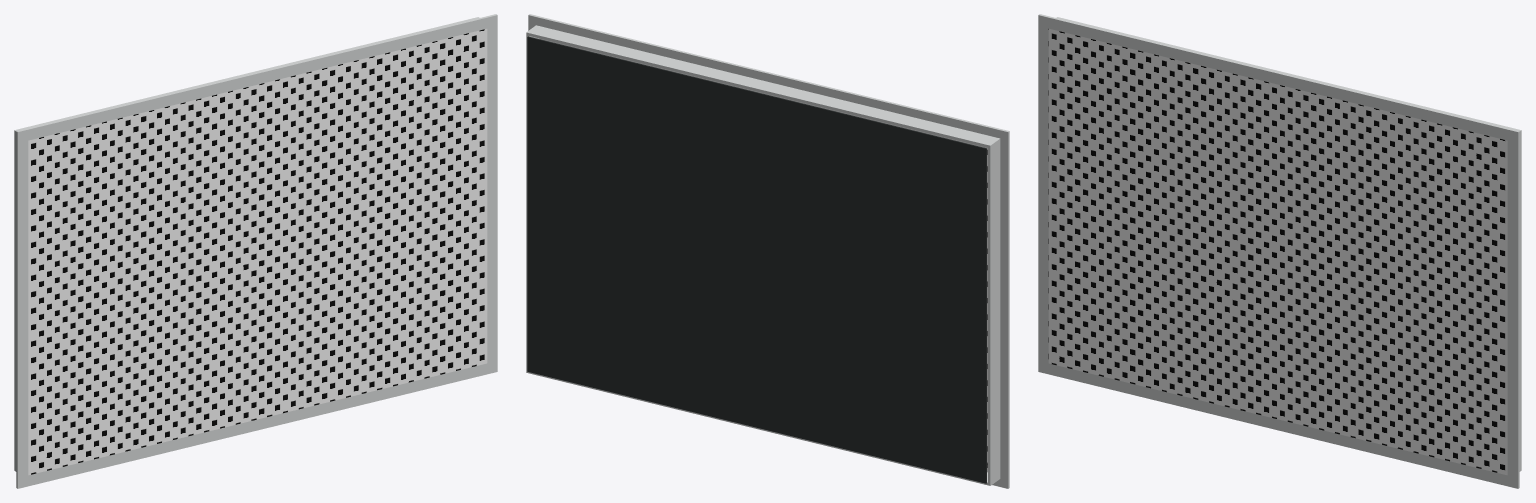
Rendered from ecoclima-ega-one-egafr-one-4.glb.
3 renders of one model, left to right at view 1: azimuth 30°, elevation 25°; view 2: azimuth 150°, elevation 25°; view 3: azimuth 330°, elevation 25°, orthographic.
Visible parts, largest first — view 1: Profile_lamiera_forata.004, Profile_cornice.121, Profile_cornice.122, Profile_cornice.123, Profile_cornice.124, Profile_ritorno.134, Profile_ritorno.132; view 2: Interno.035, Profile_ritorno.132, Profile_cornice.121, Profile_ritorno.134, Profile_cornice.123, Profile_lamiera_forata.004, Profile_ritorno.133, Profile_ritorno.135; view 3: Profile_lamiera_forata.004, Profile_cornice.121, Profile_cornice.122, Profile_cornice.124, Profile_cornice.123, Profile_ritorno.135, Profile_ritorno.132.
Part boxes in pixels (bbox=[...]): Profile_lamiera_forata.004: bbox=[28, 28, 487, 475]; Profile_cornice.121: bbox=[16, 14, 497, 142]; Profile_cornice.122: bbox=[16, 361, 497, 488]; Profile_cornice.123: bbox=[16, 140, 28, 477]; Profile_cornice.124: bbox=[487, 26, 497, 363]; Profile_ritorno.134: bbox=[14, 133, 16, 468]; Profile_ritorno.132: bbox=[14, 17, 479, 133]; Interno.035: bbox=[527, 36, 986, 483]; Profile_ritorno.132: bbox=[526, 25, 1000, 148]; Profile_cornice.121: bbox=[528, 14, 1009, 142]; Profile_ritorno.134: bbox=[988, 141, 1000, 483]; Profile_cornice.123: bbox=[1000, 141, 1009, 477]; Profile_lamiera_forata.004: bbox=[539, 38, 987, 472]; Profile_ritorno.133: bbox=[526, 370, 1000, 485]; Profile_ritorno.135: bbox=[526, 35, 538, 369]; Profile_lamiera_forata.004: bbox=[1048, 28, 1507, 475]; Profile_cornice.121: bbox=[1038, 14, 1519, 142]; Profile_cornice.122: bbox=[1038, 361, 1519, 488]; Profile_cornice.124: bbox=[1507, 140, 1519, 477]; Profile_cornice.123: bbox=[1038, 26, 1048, 363]; Profile_ritorno.135: bbox=[1519, 133, 1521, 468]; Profile_ritorno.132: bbox=[1056, 17, 1521, 133].
Bounding box in the file's own units: 0.366 × 0.26 × 0.017.
Materials: 3 (1 with a texture image).
